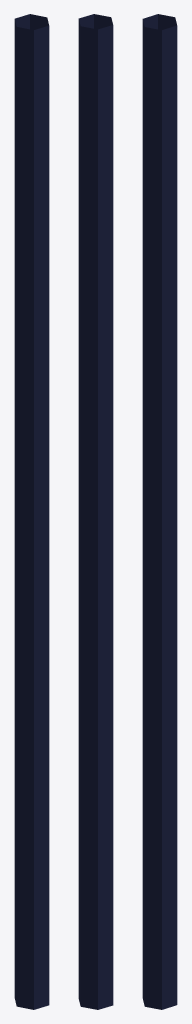
File: Iron_Fence_VerticalPole.fbx
3 views of the same model, side by side, from view 1: azimuth 30°, elevation 25°; view 2: azimuth 150°, elevation 25°; view 3: azimuth 330°, elevation 25° (orthographic).
Parts seen in each view (by area): view 1: Iron_Fence_VerticalPole; view 2: Iron_Fence_VerticalPole; view 3: Iron_Fence_VerticalPole.
Boxes of the visible parts, x1,y1,x2,y2 form: Iron_Fence_VerticalPole: [14, 14, 49, 1009]; Iron_Fence_VerticalPole: [78, 14, 113, 1009]; Iron_Fence_VerticalPole: [142, 14, 177, 1009].
Bounding box in the file's own units: 0.246 × 7.09 × 0.2257.
